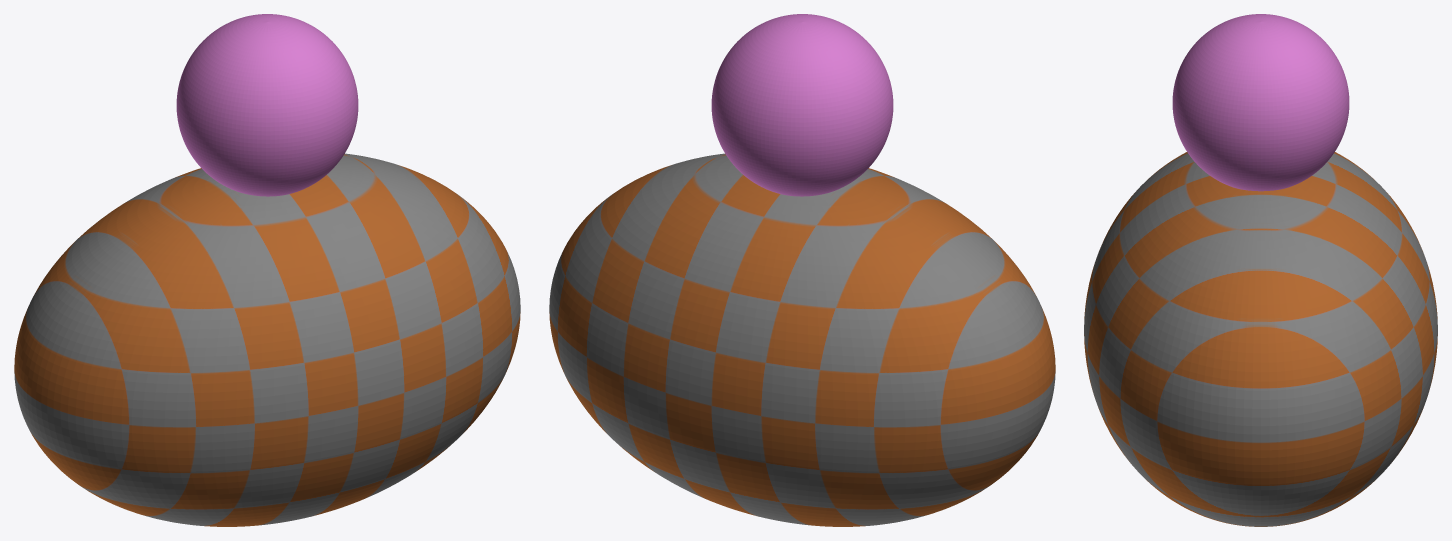
File: BOD1_BMC3_BCC0_BPT4_FRC0_HEA0_HMC10_HCC0_HPT0_ELT0_ERT0_ELL0_ERL0_AP0_AAL0_AAR0_BEK0.fbx
3 renders of one model, left to right at view 1: azimuth 30°, elevation 25°; view 2: azimuth 150°, elevation 25°; view 3: azimuth 270°, elevation 25°, orthographic. The views are drawn at different scales.
Parts seen in each view (by area): view 1: Body, Head; view 2: Body, Head; view 3: Body, Head.
Part boxes in pixels (x1=…): Body: x1=14, y1=153, x2=520, y2=526; Head: x1=176, y1=14, x2=358, y2=196; Body: x1=549, y1=153, x2=1055, y2=526; Head: x1=711, y1=14, x2=893, y2=196; Body: x1=1084, y1=152, x2=1437, y2=526; Head: x1=1172, y1=14, x2=1349, y2=191.
Bounding box in the file's own units: 148 × 145 × 98.72.
2 materials, 2 textured.
